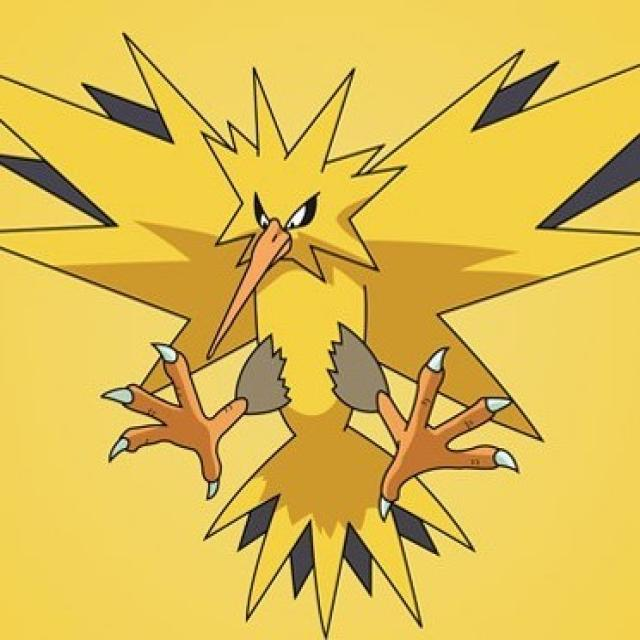Zapdos: (137, 46, 528, 549)
